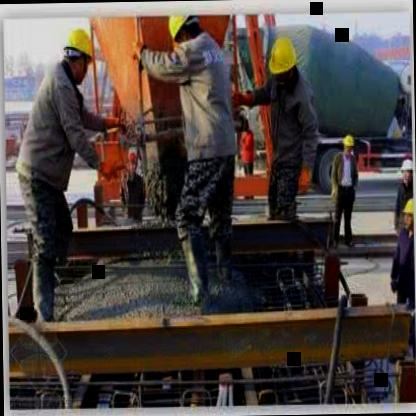helmet: (60, 21, 98, 83), (266, 30, 298, 92), (162, 9, 206, 52), (400, 196, 414, 236), (400, 153, 413, 193), (343, 130, 355, 158)
